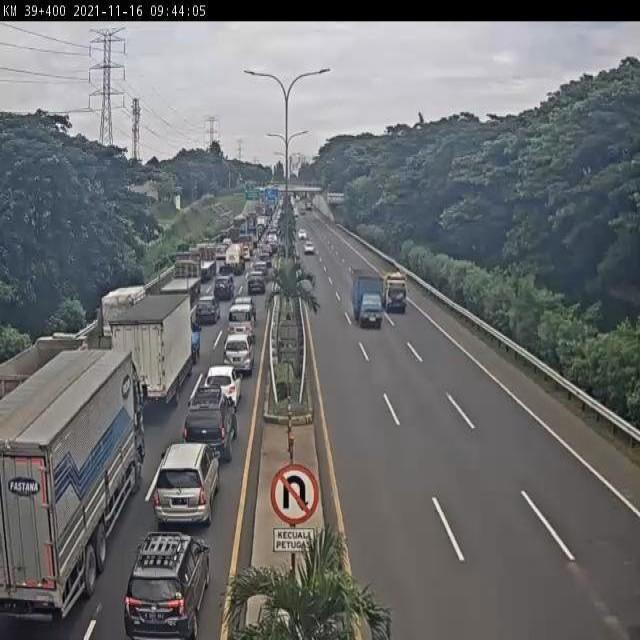Car: (120, 535, 213, 640), (153, 437, 220, 530), (182, 387, 238, 463), (202, 365, 243, 411), (223, 332, 255, 377), (227, 297, 257, 336), (194, 296, 220, 325), (213, 275, 234, 301), (247, 273, 266, 295), (218, 256, 235, 276), (252, 260, 268, 279), (215, 244, 228, 264), (257, 251, 271, 267), (304, 242, 314, 254), (298, 229, 307, 240), (306, 202, 312, 212)
Truck: (2, 342, 148, 626), (108, 287, 196, 410), (101, 286, 148, 339), (350, 268, 382, 328), (159, 277, 202, 317), (382, 271, 407, 313), (174, 251, 203, 284), (194, 242, 218, 275), (225, 242, 246, 274), (237, 238, 253, 265), (228, 226, 244, 244)
